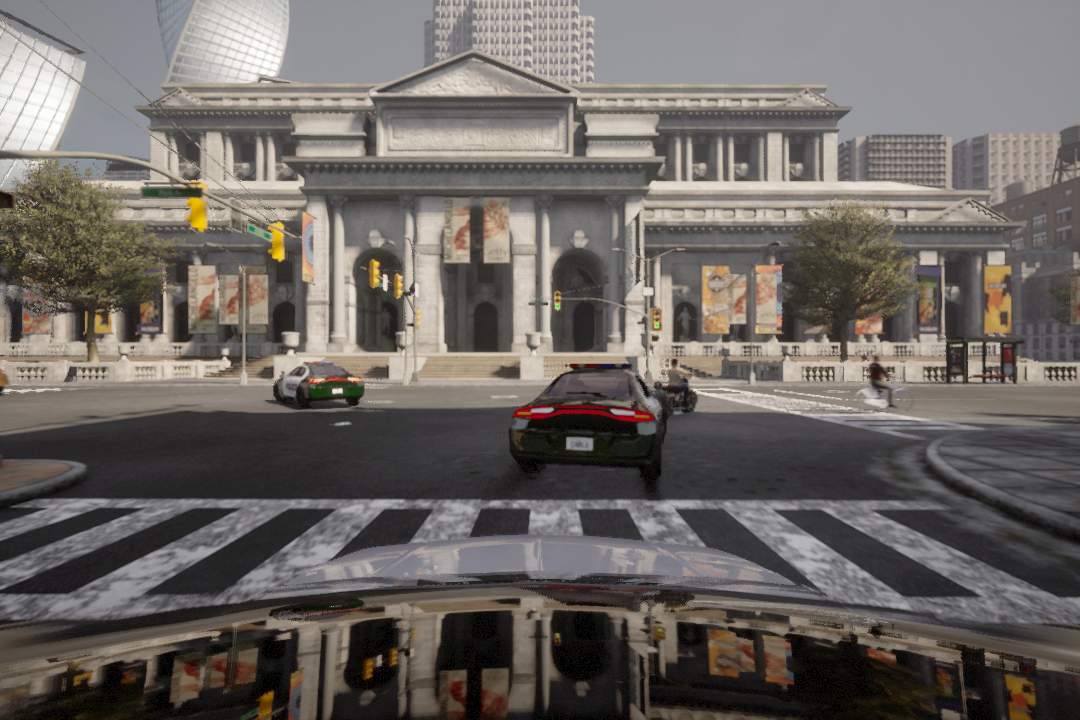TrafficLight: (647, 308, 661, 332), (549, 289, 561, 310)
walkside: (11, 493, 1080, 632)
